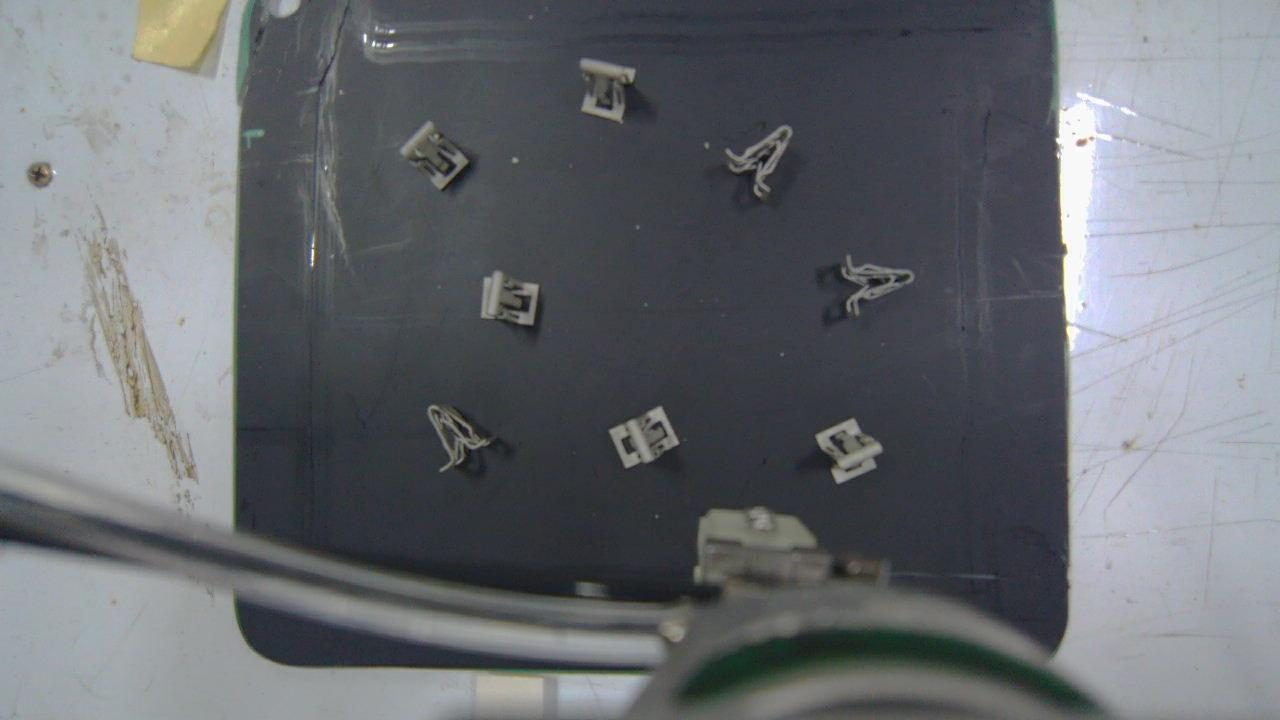ng: (398, 119, 470, 189), (725, 126, 793, 199), (428, 402, 493, 477), (841, 254, 916, 316), (819, 418, 882, 485), (580, 61, 637, 124), (479, 271, 541, 328)
pass: (609, 406, 680, 472)
